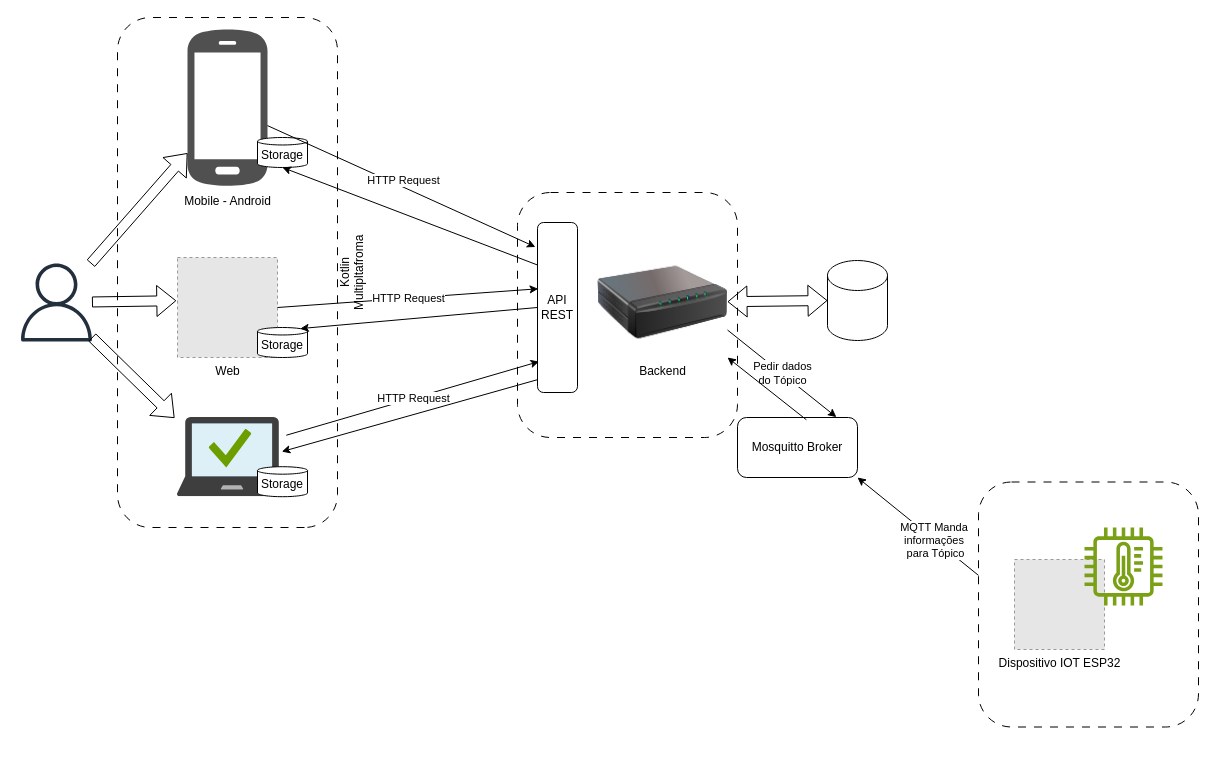
Image size: 1216x765. Some labels were removed from this diagram. Grey dashed boxes stand in for pictures. The shapes that lost their labels are listed below. From the top down, each one's box as (x1, y1, x2, y2) in pixels, then its label:
(17, 263, 95, 341): Usuario
(516, 192, 738, 438): Kotlin e Spring Boot
(826, 260, 888, 340): MariaDB
(177, 417, 287, 496): Desktop
(978, 481, 1198, 727): C++ com ESP32
